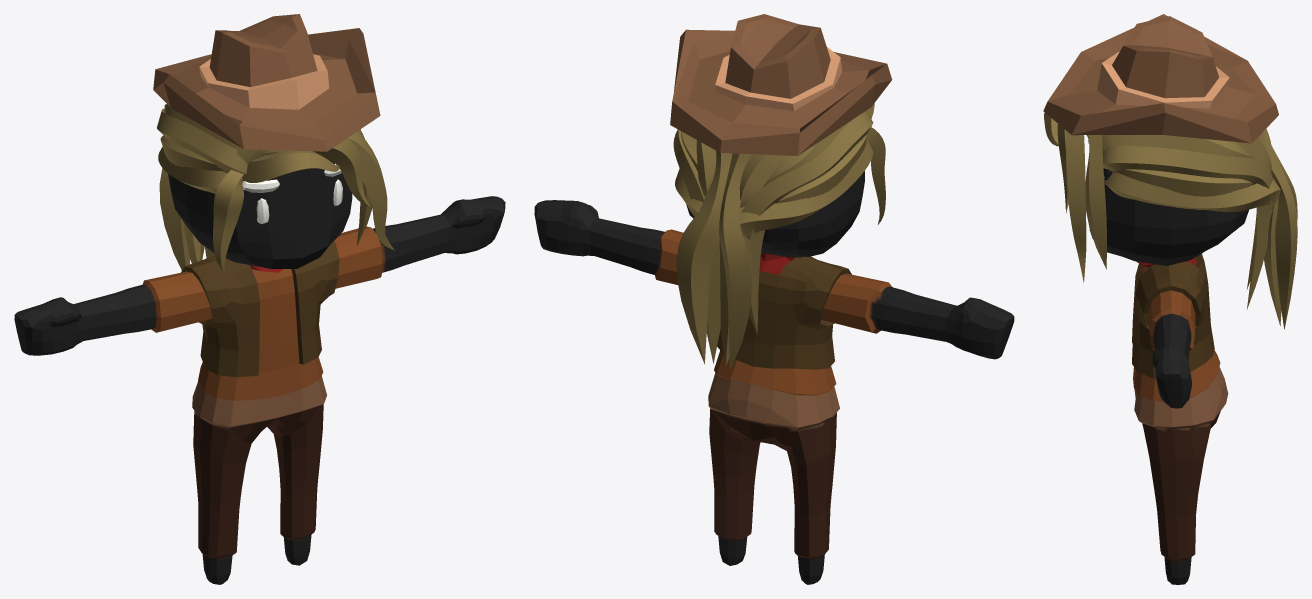
File: Cowboy_Female.fbx
3 renders of one model, left to right at view 1: azimuth 30°, elevation 25°; view 2: azimuth 150°, elevation 25°; view 3: azimuth 270°, elevation 25°, orthographic. The views are drawn at different scales.
Visible parts, largest first — view 1: Body; view 2: Body; view 3: Body.
Part boxes in pixels (x1,y1,x2,y2): Body: [14, 14, 505, 584]; Body: [534, 14, 1014, 584]; Body: [1043, 14, 1297, 584].
Bounding box in the file's own units: 324 × 353 × 153.
1 material, 1 textured.
